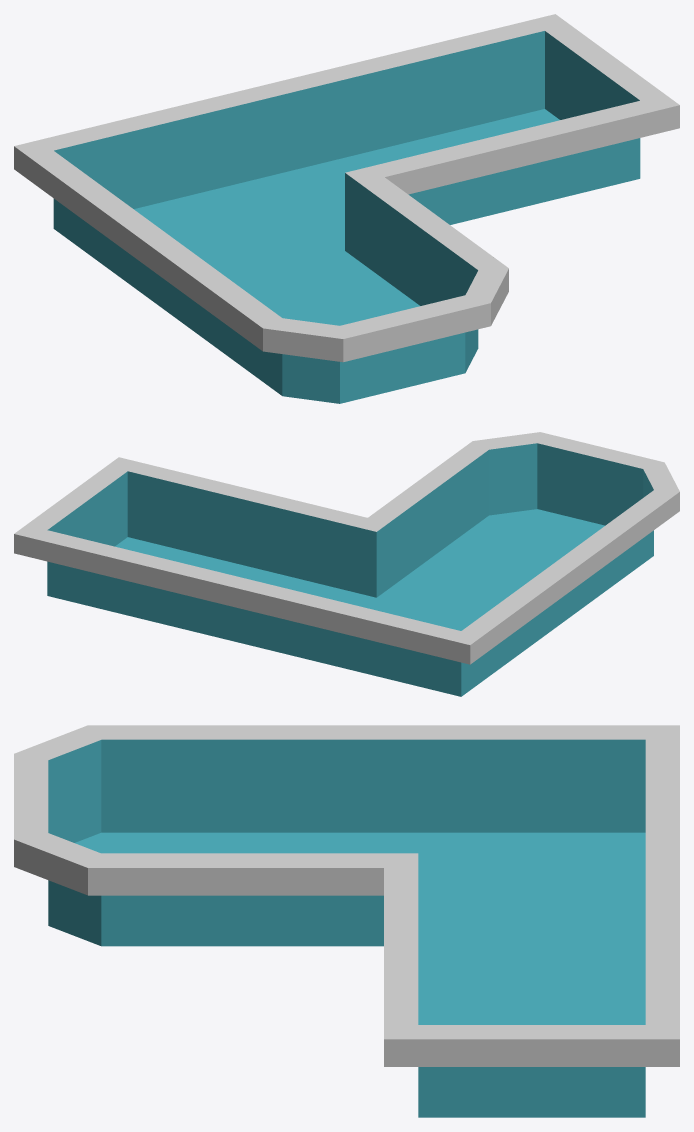
File: Pool_White_vc.fbx
3 renders of one model, top to bottom at view 1: azimuth 30°, elevation 25°; view 2: azimuth 150°, elevation 25°; view 3: azimuth 270°, elevation 25°, orthographic. The views are drawn at different scales.
Parts seen in each view (by area): view 1: Pool_Brown_White_vc; view 2: Pool_Brown_White_vc; view 3: Pool_Brown_White_vc.
Boxes of the visible parts, x1,y1,x2,y2 form: Pool_Brown_White_vc: (14,14,679,403); Pool_Brown_White_vc: (14,432,679,696); Pool_Brown_White_vc: (14,725,679,1117).
Bounding box in the file's own units: 2115 × 292 × 1895.
